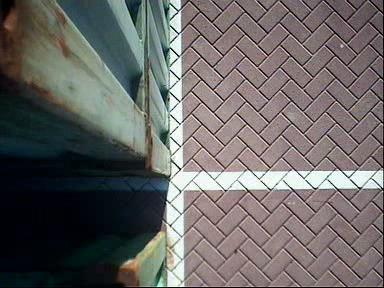groundmarker_2: (248, 39, 300, 73), (250, 97, 302, 131), (245, 235, 297, 268)
